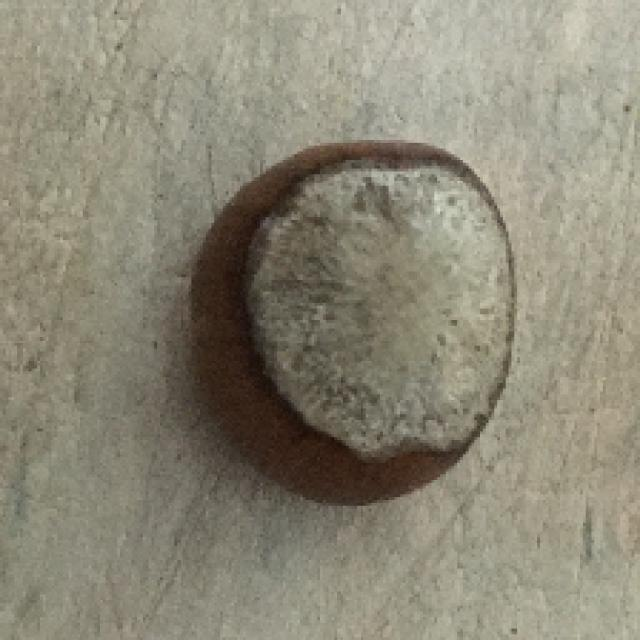qualityHazelnut: (184, 133, 524, 523)
